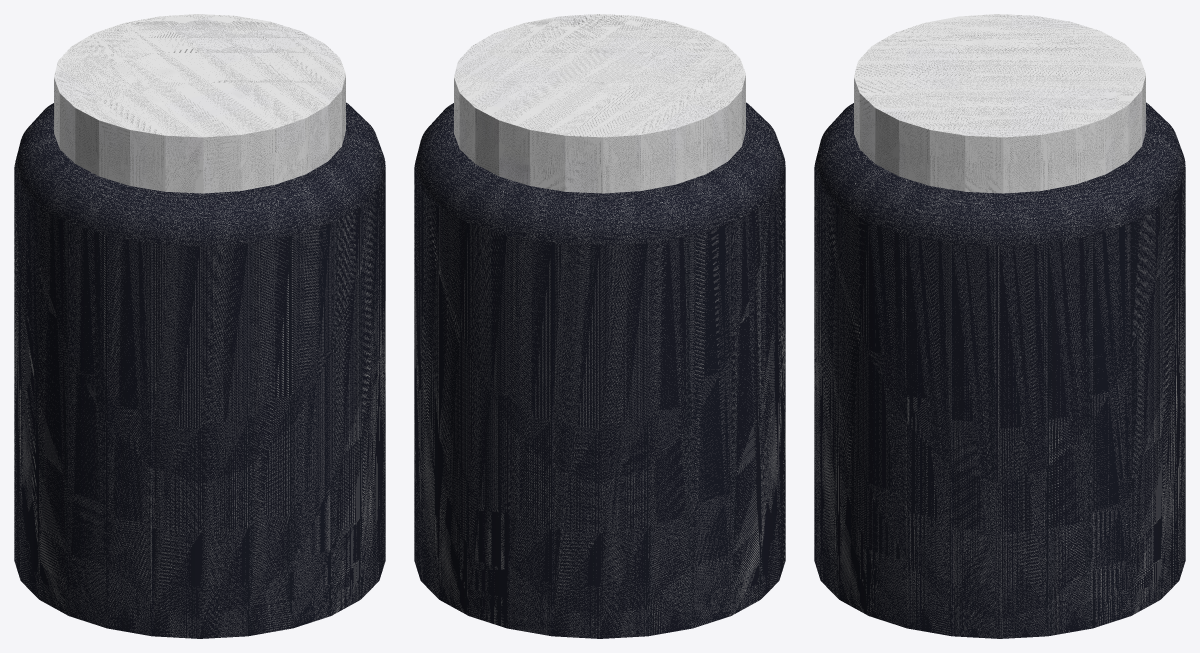
File: RemedioPreto.dae
3 renders of one model, left to right at view 1: azimuth 30°, elevation 25°; view 2: azimuth 150°, elevation 25°; view 3: azimuth 270°, elevation 25°, orthographic.
Visible parts, largest first — view 1: instance_0 (×3); view 2: instance_0 (×3); view 3: instance_0 (×3).
Boxes of the visible parts, <box> form: instance_0 (×3): <box>14,14,385,638</box>; instance_0 (×3): <box>414,14,785,638</box>; instance_0 (×3): <box>814,14,1185,638</box>.
Size of the model in its own units: 2.93 by 2.93 by 4.22.
Materials: 3 (1 with a texture image).
